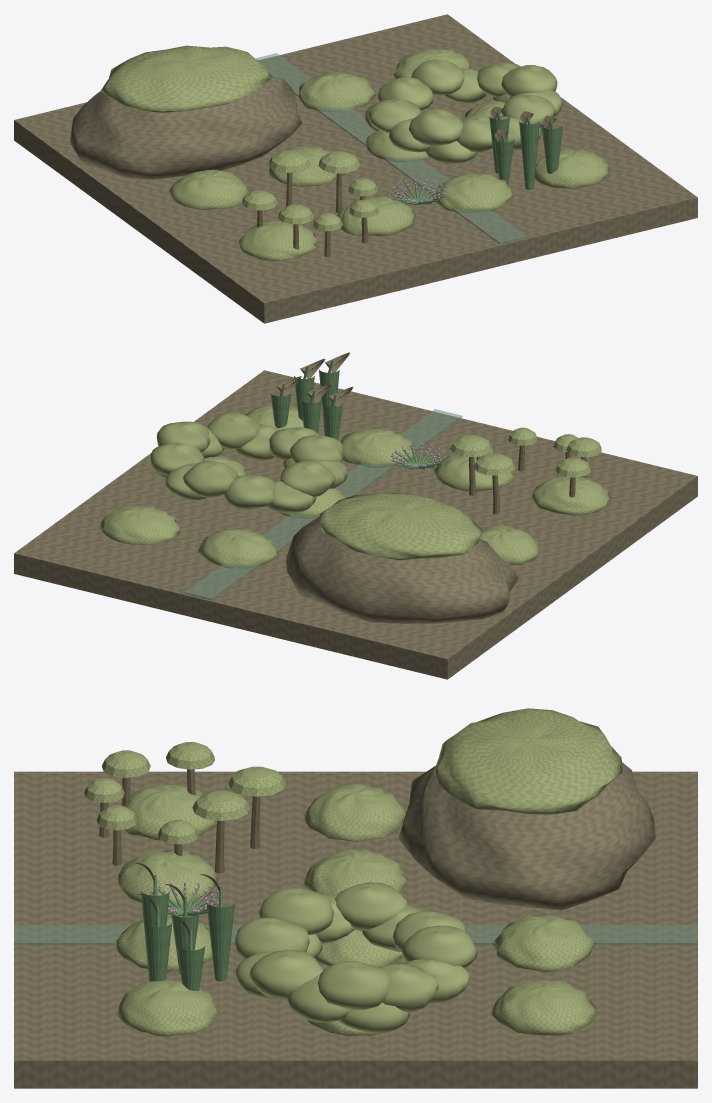
Rendered from bog_margin_swamp_and_mangrove_22672.glb.
3 views of the same model, one above another, from view 1: azimuth 30°, elevation 25°; view 2: azimuth 150°, elevation 25°; view 3: azimuth 270°, elevation 25° (orthographic). The views are drawn at different scales.
Visible parts, largest first — view 1: 000-quaking-bog-tile/0, 001-peat-hummock/0, 001-peat-hummock/1, 000-quaking-bog-tile/1, 000-quaking-bog-tile/6, 000-quaking-bog-tile/4, 000-quaking-bog-tile/12, 000-quaking-bog-tile/10, 000-quaking-bog-tile/13, 000-quaking-bog-tile/11, 002-sphagnum-mound/1, 002-sphagnum-mound/2 (+19 smaller); view 2: 000-quaking-bog-tile/0, 001-peat-hummock/0, 001-peat-hummock/1, 000-quaking-bog-tile/1, 000-quaking-bog-tile/5, 000-quaking-bog-tile/4, 000-quaking-bog-tile/10, 000-quaking-bog-tile/12, 000-quaking-bog-tile/6, 000-quaking-bog-tile/11, 002-sphagnum-mound/2, 002-sphagnum-mound/7 (+19 smaller); view 3: 000-quaking-bog-tile/0, 001-peat-hummock/0, 001-peat-hummock/1, 000-quaking-bog-tile/1, 000-quaking-bog-tile/5, 000-quaking-bog-tile/6, 000-quaking-bog-tile/4, 000-quaking-bog-tile/13, 000-quaking-bog-tile/11, 000-quaking-bog-tile/7, 000-quaking-bog-tile/10, 002-sphagnum-mound/0 (+27 smaller).
Part boxes in pixels (x1=…): 000-quaking-bog-tile/0: x1=14, y1=14, x2=697, y2=323; 001-peat-hummock/0: x1=69, y1=76, x2=301, y2=179; 001-peat-hummock/1: x1=100, y1=45, x2=270, y2=113; 000-quaking-bog-tile/1: x1=255, y1=53, x2=527, y2=244; 000-quaking-bog-tile/6: x1=168, y1=169, x2=250, y2=209; 000-quaking-bog-tile/4: x1=298, y1=71, x2=375, y2=112; 000-quaking-bog-tile/12: x1=435, y1=172, x2=513, y2=212; 000-quaking-bog-tile/10: x1=238, y1=220, x2=317, y2=260; 000-quaking-bog-tile/13: x1=534, y1=149, x2=610, y2=189; 000-quaking-bog-tile/11: x1=337, y1=196, x2=415, y2=235; 002-sphagnum-mound/1: x1=409, y1=109, x2=462, y2=145; 002-sphagnum-mound/2: x1=411, y1=59, x2=464, y2=95; 000-quaking-bog-tile/0: x1=14, y1=370, x2=697, y2=679; 001-peat-hummock/0: x1=285, y1=517, x2=518, y2=623; 001-peat-hummock/1: x1=319, y1=492, x2=482, y2=560; 000-quaking-bog-tile/1: x1=184, y1=409, x2=462, y2=600; 000-quaking-bog-tile/5: x1=99, y1=505, x2=179, y2=544; 000-quaking-bog-tile/4: x1=197, y1=529, x2=277, y2=568; 000-quaking-bog-tile/10: x1=532, y1=476, x2=611, y2=515; 000-quaking-bog-tile/12: x1=340, y1=428, x2=416, y2=467; 000-quaking-bog-tile/6: x1=480, y1=525, x2=539, y2=564; 000-quaking-bog-tile/11: x1=433, y1=453, x2=513, y2=491; 002-sphagnum-mound/2: x1=183, y1=461, x2=237, y2=497; 002-sphagnum-mound/7: x1=224, y1=475, x2=275, y2=509; 000-quaking-bog-tile/0: x1=14, y1=771, x2=697, y2=1088; 001-peat-hummock/0: x1=398, y1=762, x2=655, y2=910; 001-peat-hummock/1: x1=433, y1=708, x2=622, y2=814; 000-quaking-bog-tile/1: x1=14, y1=925, x2=697, y2=945; 000-quaking-bog-tile/5: x1=491, y1=980, x2=596, y2=1035; 000-quaking-bog-tile/6: x1=304, y1=783, x2=405, y2=841; 000-quaking-bog-tile/4: x1=491, y1=914, x2=595, y2=971; 000-quaking-bog-tile/13: x1=117, y1=979, x2=218, y2=1036; 000-quaking-bog-tile/11: x1=117, y1=850, x2=218, y2=905; 000-quaking-bog-tile/7: x1=303, y1=849, x2=406, y2=895; 000-quaking-bog-tile/10: x1=121, y1=784, x2=215, y2=840; 002-sphagnum-mound/0: x1=318, y1=961, x2=389, y2=1010.
Bounding box in the file's own units: 4 × 0.9029 × 4.
Materials: 6 (4 with a texture image).
